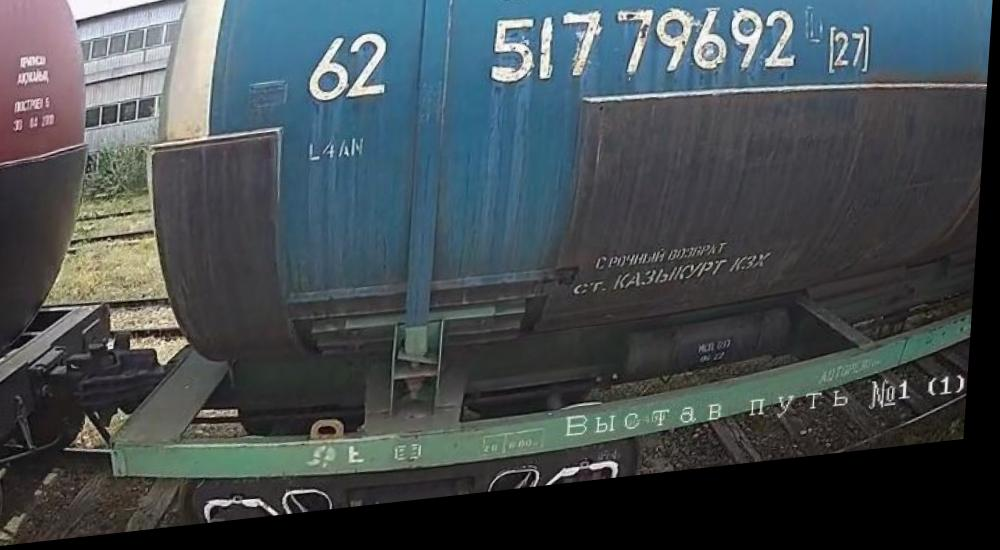Wagon-number: (485, 0, 804, 120)
